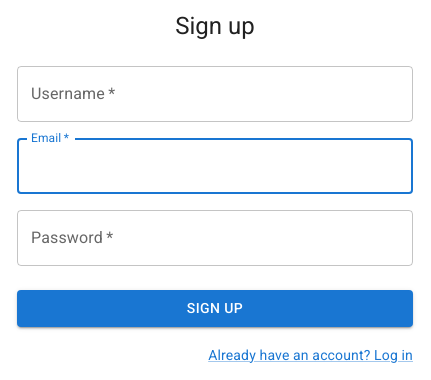
Test: <SignUp /> › behavior › should not allow special characters to be entered into the username field
The image size is (431, 380).
Type "testing@wild!user#names" into the field labelled "Username *" at (215, 94), box 17,66 -> 413,122
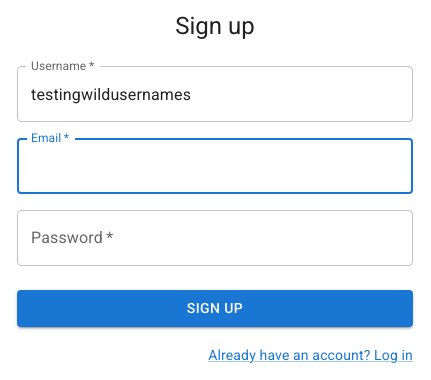
Check: the field labelled "Username *" holds "testingwildusernames", box 17,66 -> 413,122
